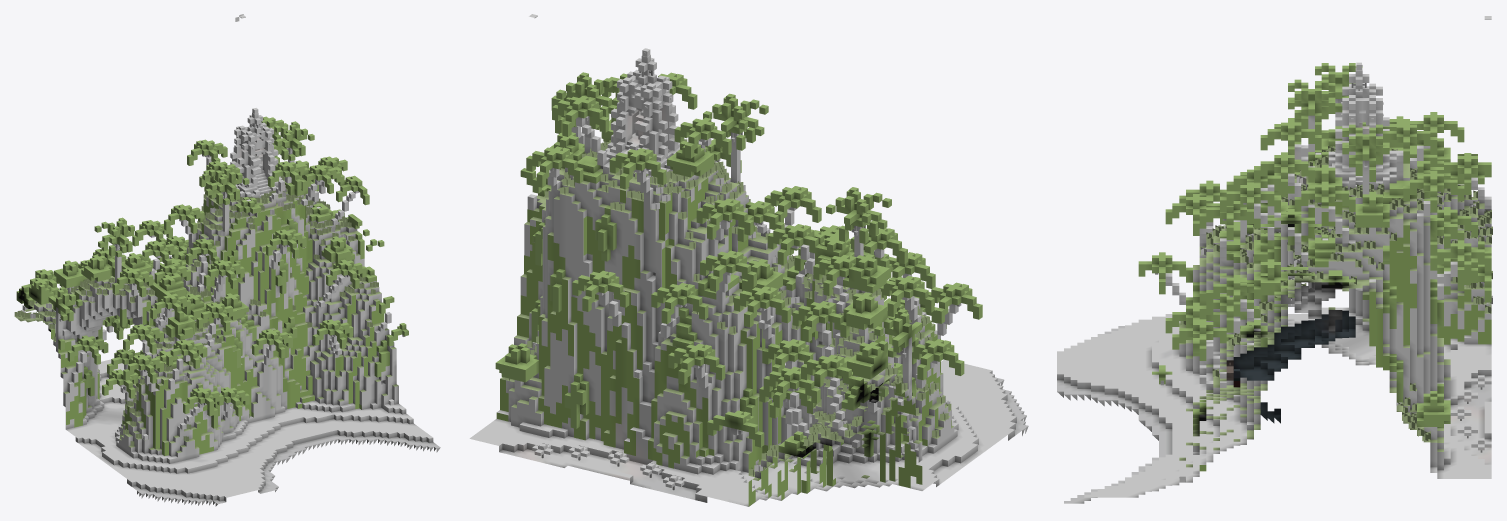
3 renders of one model, left to right at view 1: azimuth 30°, elevation 25°; view 2: azimuth 150°, elevation 25°; view 3: azimuth 270°, elevation 25°, orthographic. The views are drawn at different scales.
Visible parts, largest first — view 1: recorte, opaco; view 2: recorte, opaco; view 3: recorte, opaco.
Part boxes in pixels (x1,y1,x2,y2): recorte: (14,14,408,457); opaco: (18,17,440,506); recorte: (495,14,982,506); opaco: (469,54,1028,506); recorte: (1138,16,1492,482); opaco: (1057,67,1491,503).
Size of the model in its own units: 64.41 by 75.38 by 64.2.
